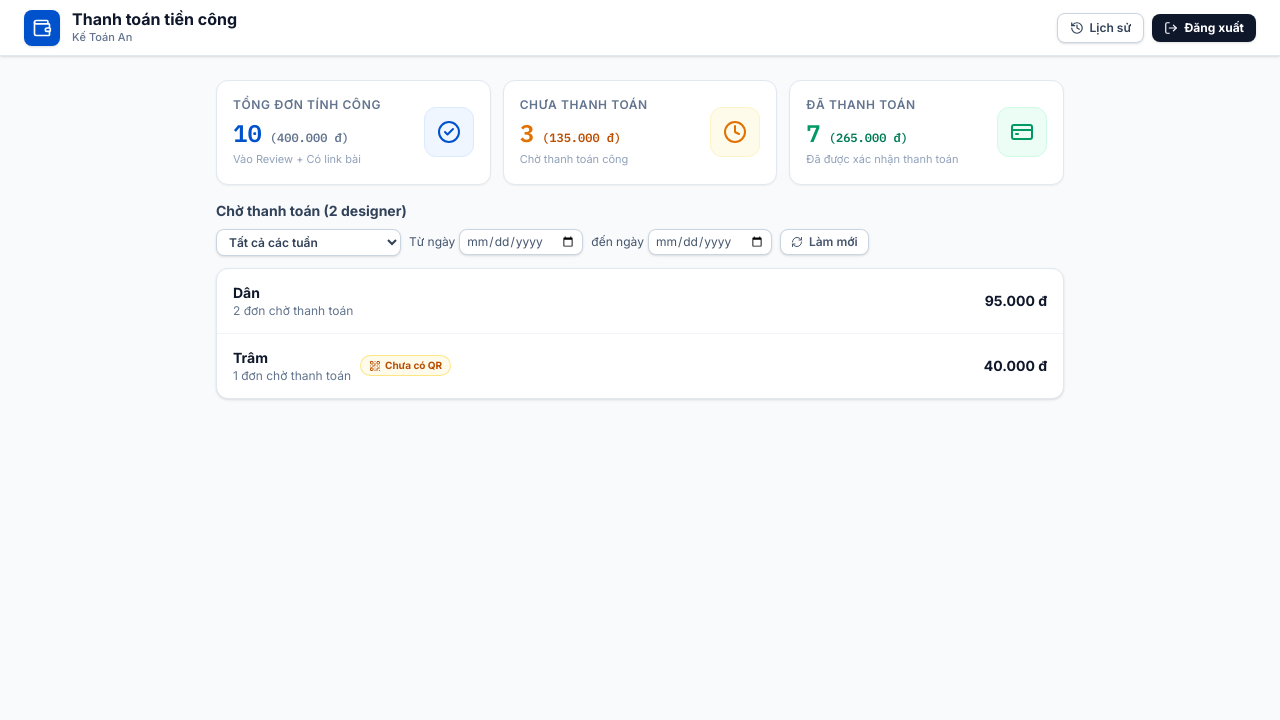
Test case: AccountantPaymentsPage › a designer without a QR can still be paid, with a note instead of an image
Click the text "Trâm" at point(250, 357), box x1=233 y1=348 x2=268 y2=366
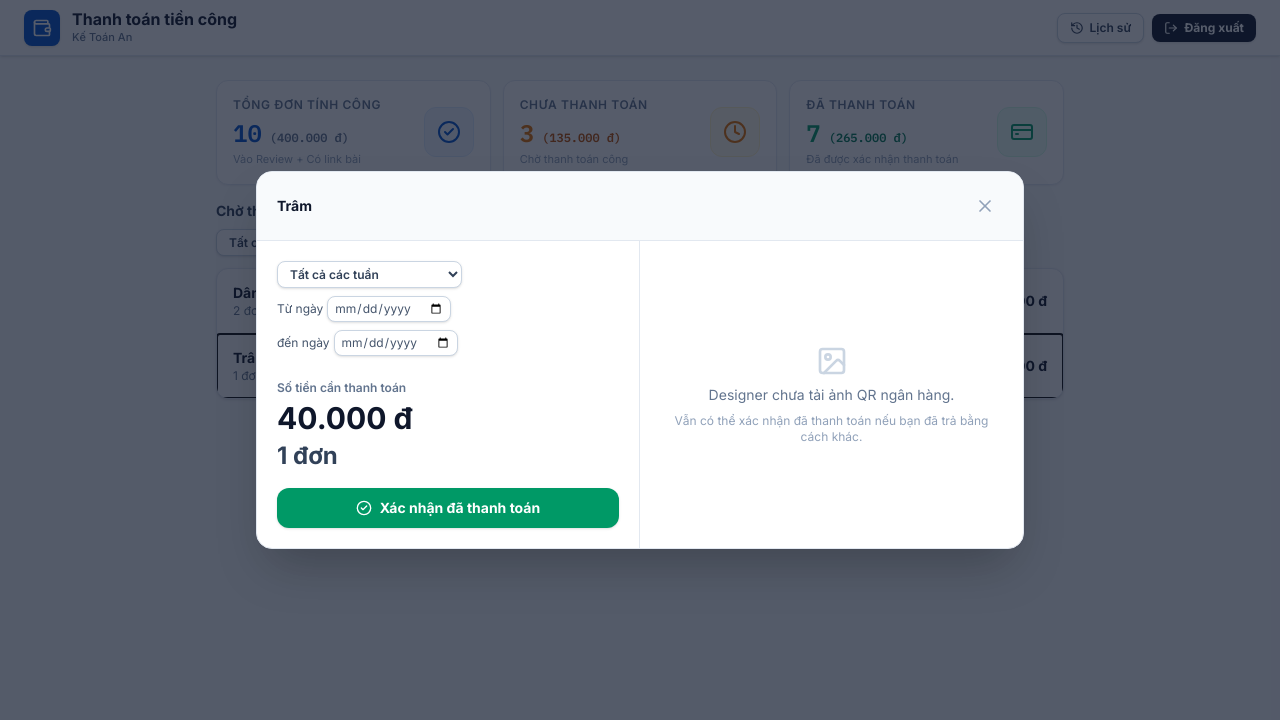
Expected: the text with test id "pay-amount" reads "40.000 đ", x1=277 y1=400 x2=412 y2=436
Expected: the text "Designer chưa tải ảnh QR ngân hàng." is shown, x1=709 y1=384 x2=954 y2=404
Expected: the button "Xác nhận đã thanh toán" is enabled, x1=277 y1=488 x2=619 y2=528
